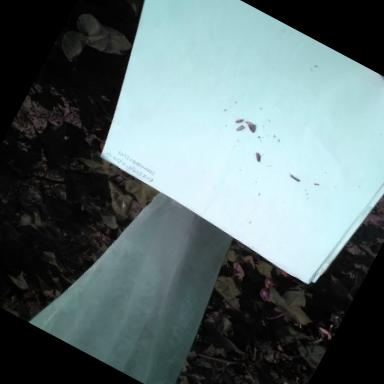pbw: (249, 150, 265, 164), (284, 172, 302, 184), (244, 122, 258, 136), (233, 122, 246, 135), (232, 114, 246, 126), (242, 118, 256, 130)
